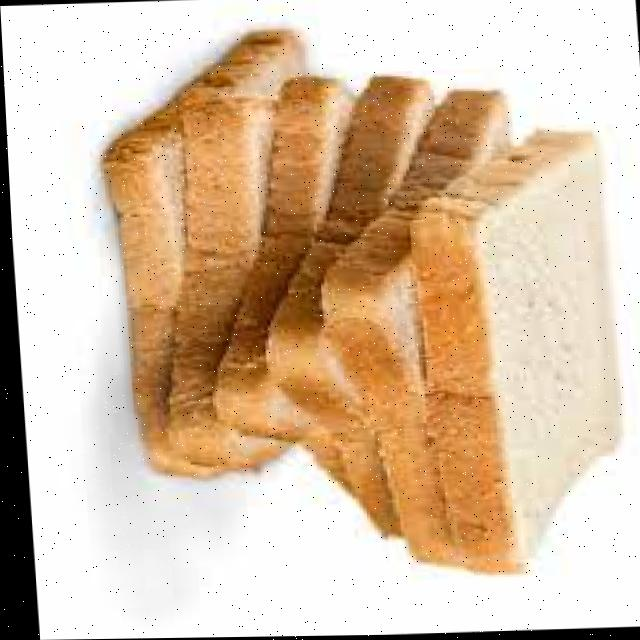Bread: (409, 134, 616, 574)
